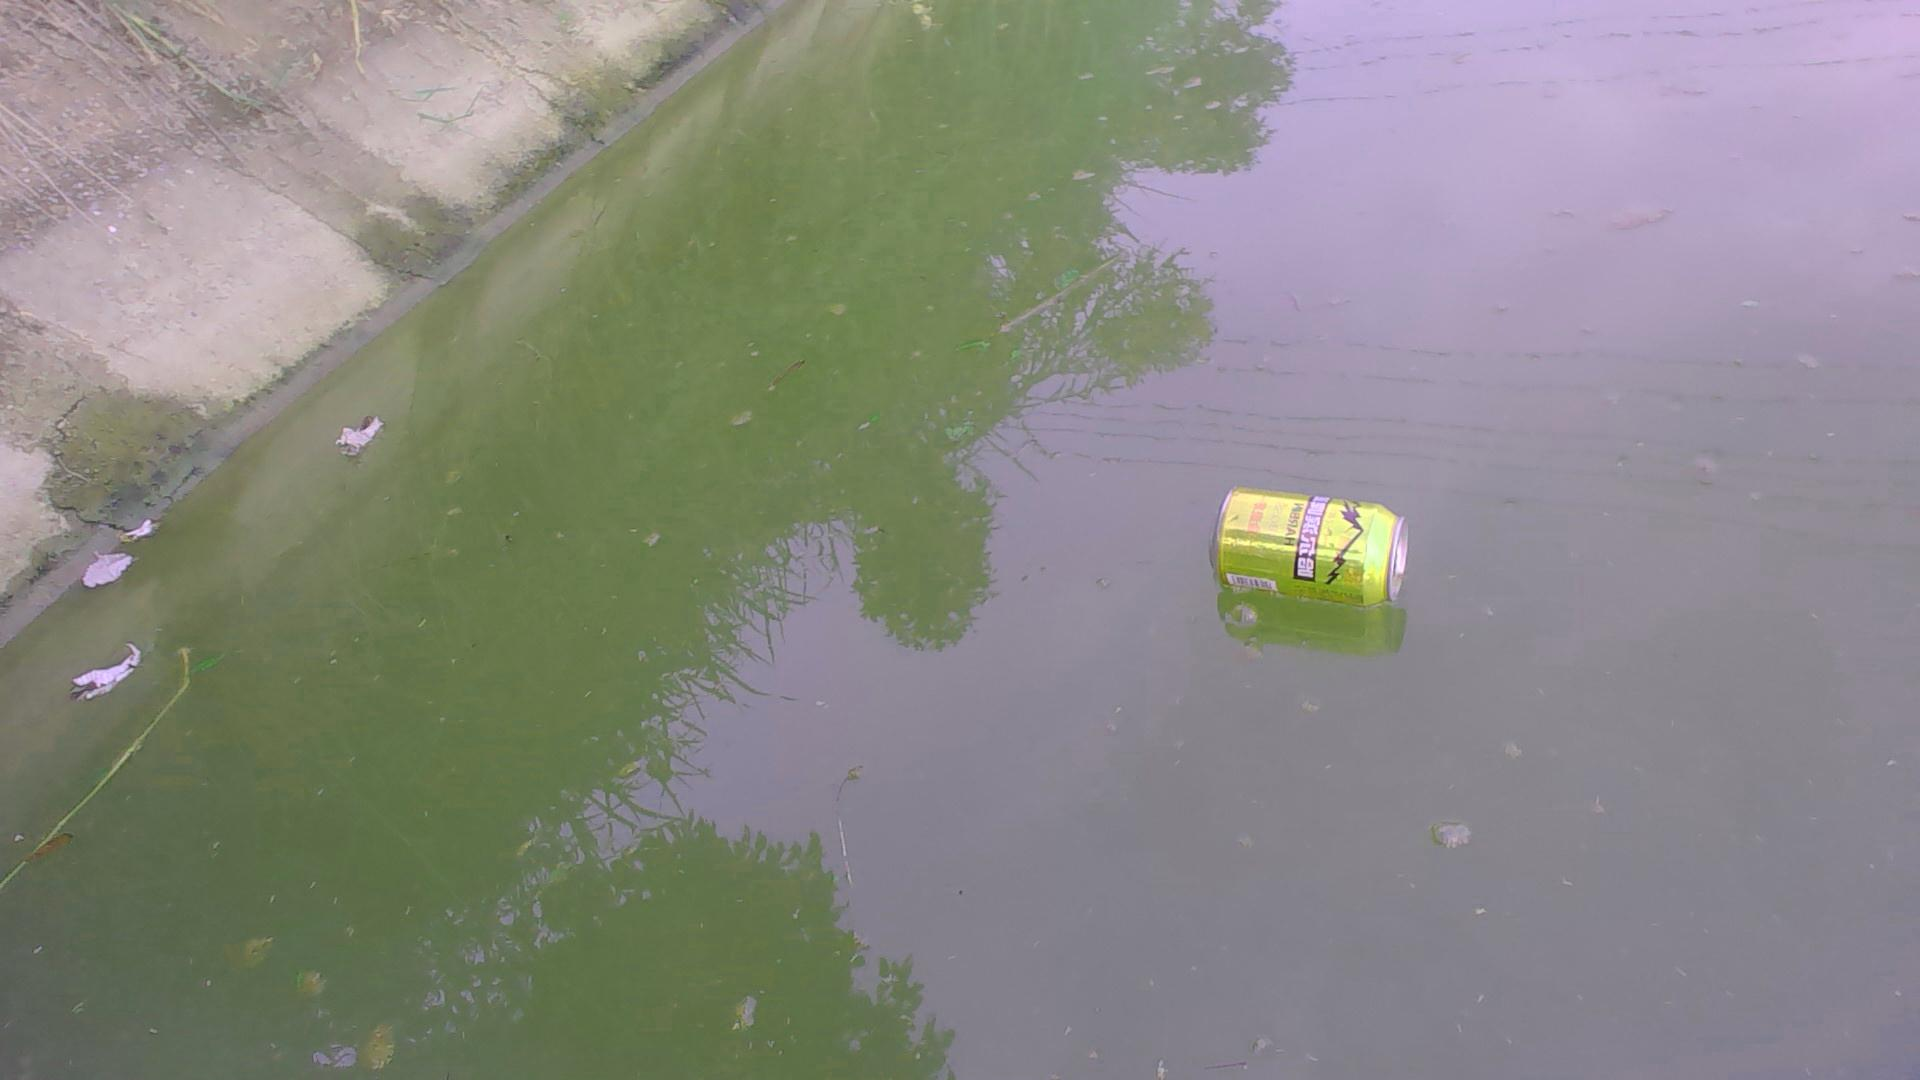Metal: (1204, 483, 1419, 611)
